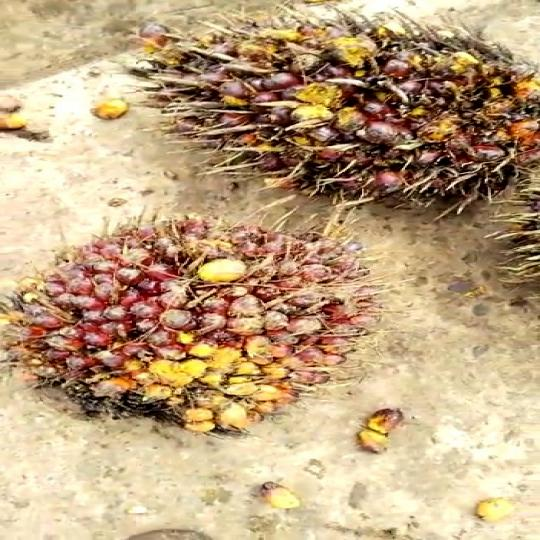masak: (0, 203, 421, 432), (117, 20, 540, 219)
